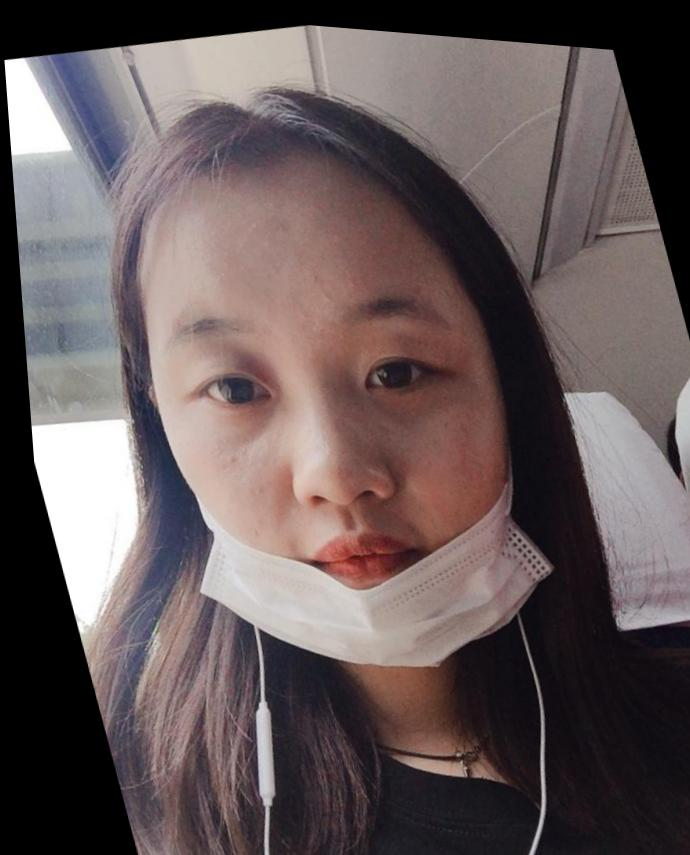WRONG: (125, 200, 568, 687)
